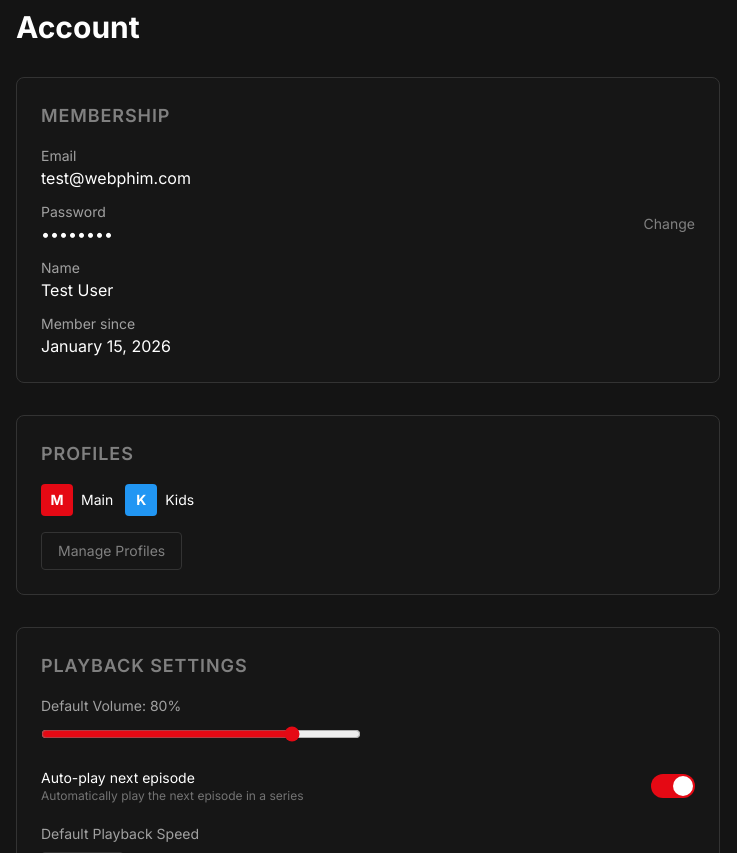
Scenario: AccountPage › shows change password form when Change button clicked
This screenshot has width=737, height=853.
Click the button with test id "change-password-toggle".
click(669, 224)  # box [644,214,695,234]
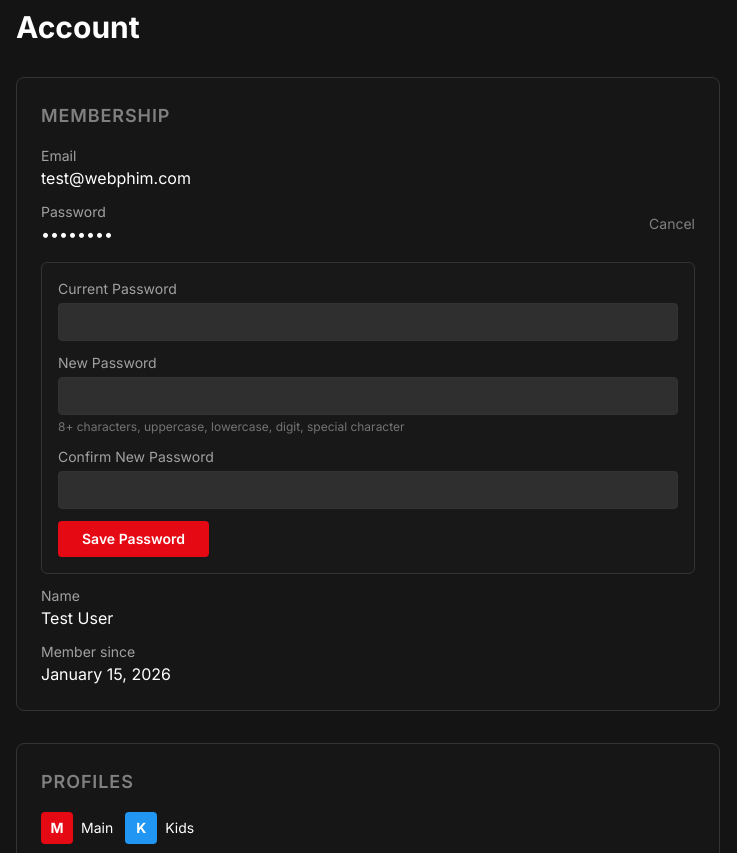
expect the form with test id "change-password-form" is shown: met, box [41,262,695,574]
